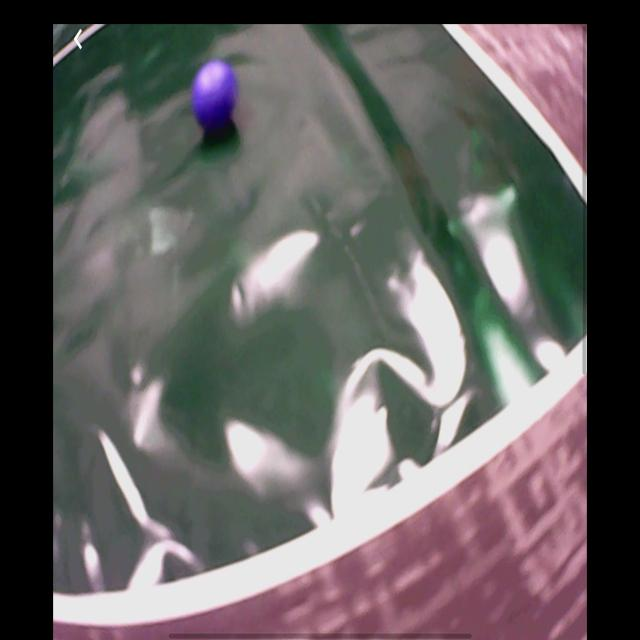ball: (192, 61, 239, 128)
